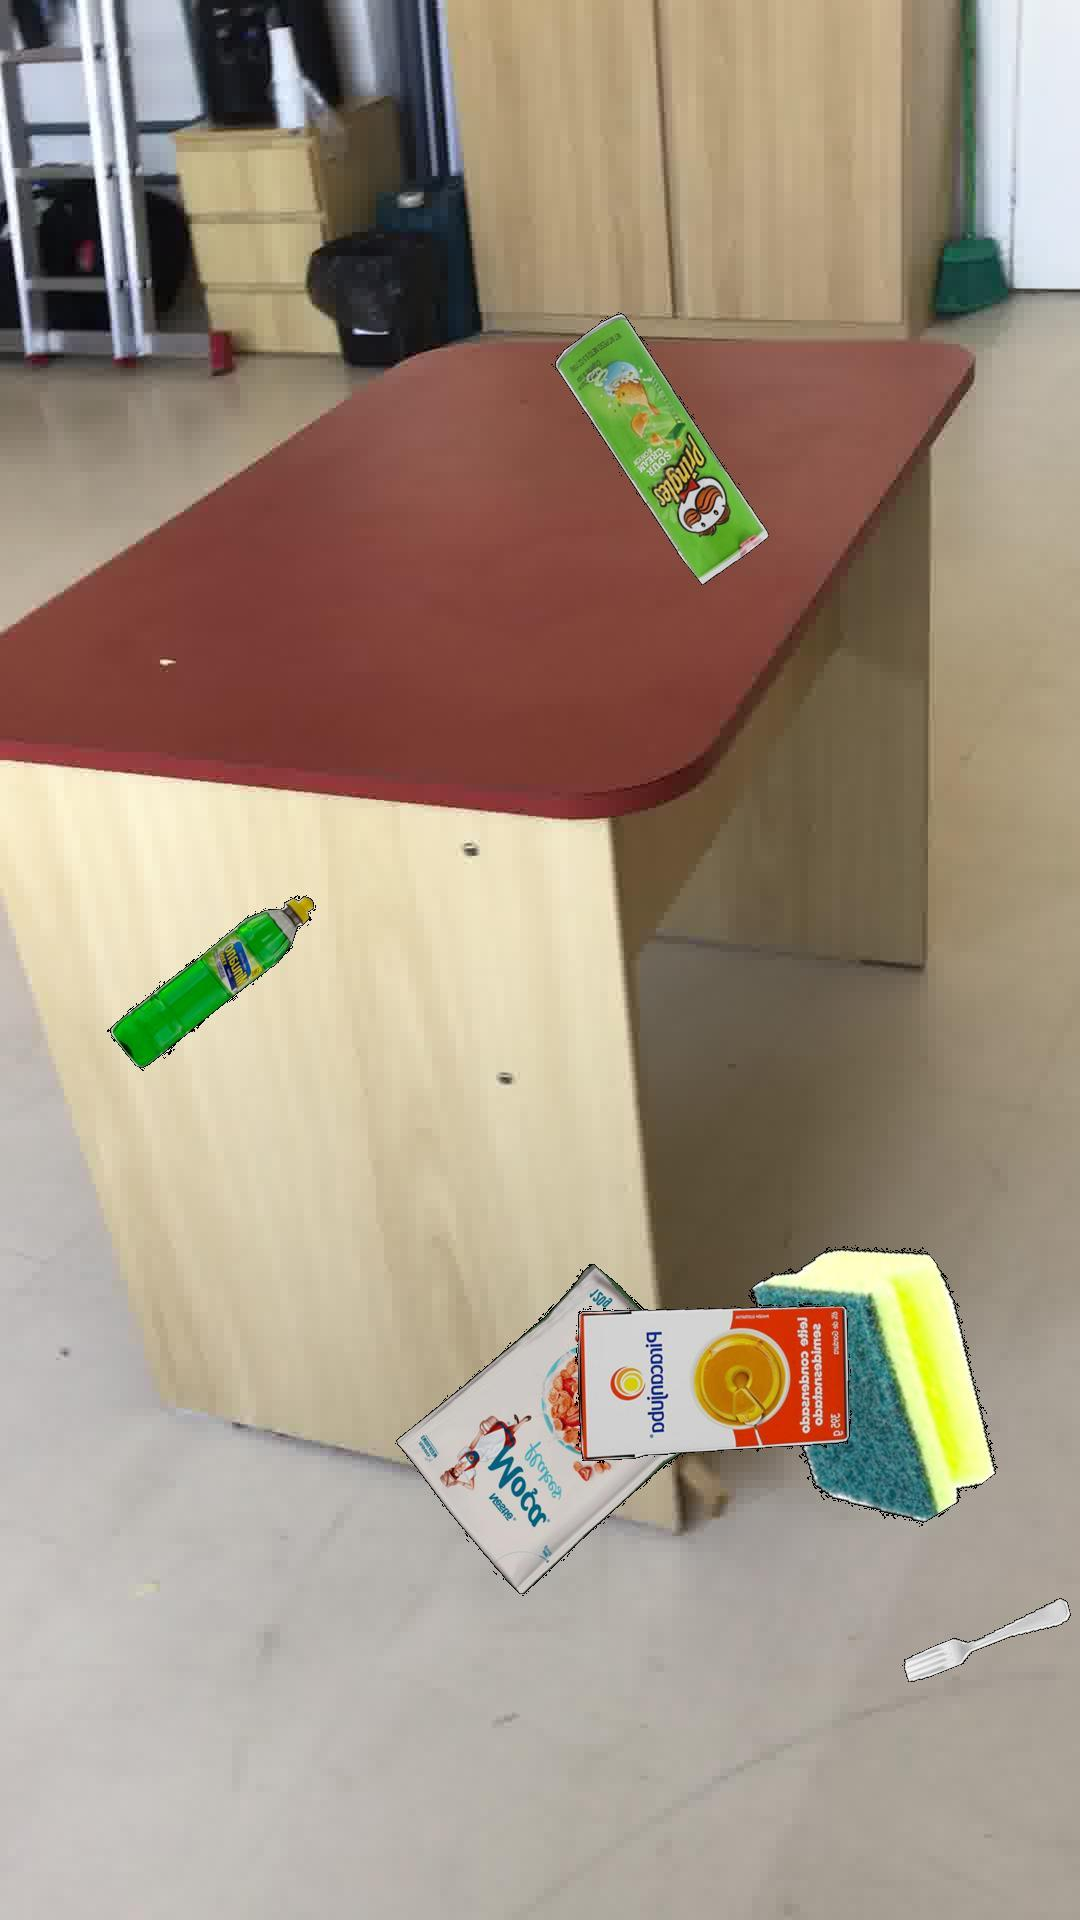cleaner: (105, 894, 313, 1068)
corn flakes: (394, 1262, 680, 1593)
fork: (902, 1597, 1069, 1680)
pringles: (554, 311, 767, 583)
sponge: (749, 1246, 994, 1522)
